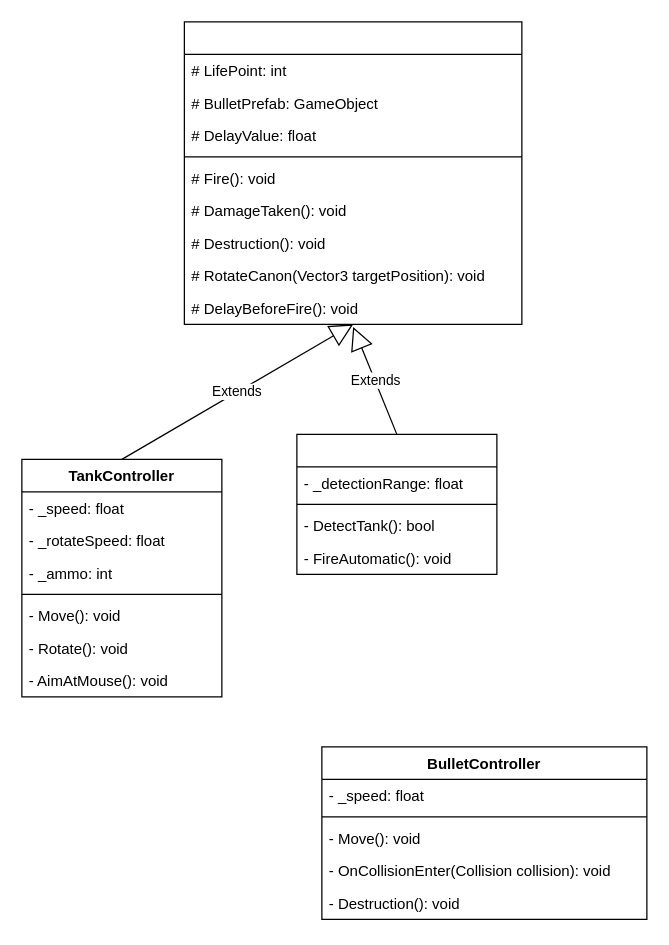
Image size: 669x945. Some labels were removed from this diagram. The shapes that lost their labels are listed below. From the top down, each one's box as (x1, y1, x2, y2) in pixels, then its label:
(183, 21, 522, 324): ActorController
(296, 433, 497, 574): TurretController
